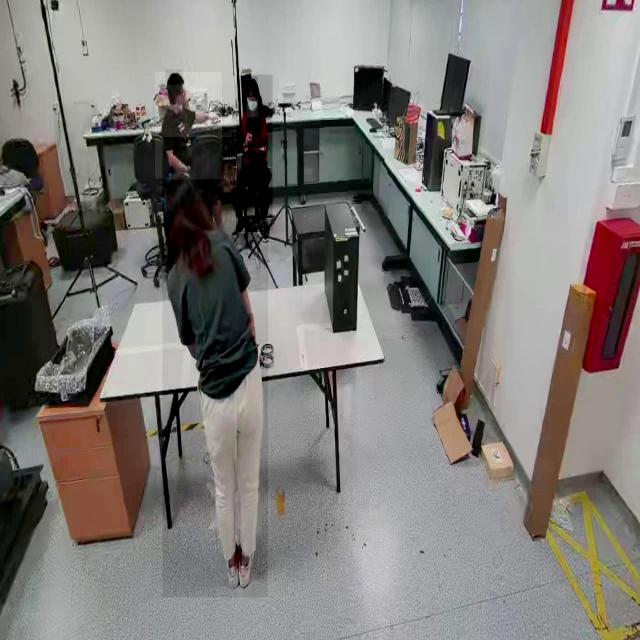face_mask: (247, 97, 258, 117)
hand_noglove: (240, 140, 252, 154), (209, 109, 219, 122), (245, 129, 253, 145)
head_nohelmet: (162, 172, 200, 208), (166, 70, 184, 86), (244, 76, 258, 92)
person: (162, 137, 268, 598), (155, 72, 223, 180), (237, 75, 273, 232)
